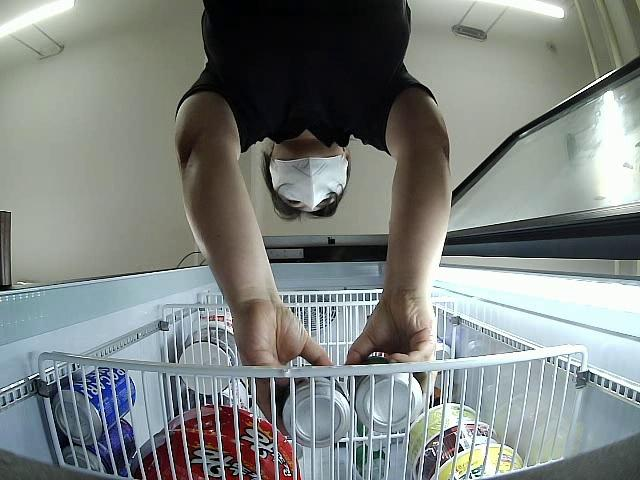00_hand: (233, 297, 334, 437), (345, 301, 437, 398)
12_chilsungCider: (349, 356, 425, 434), (280, 366, 347, 447)
